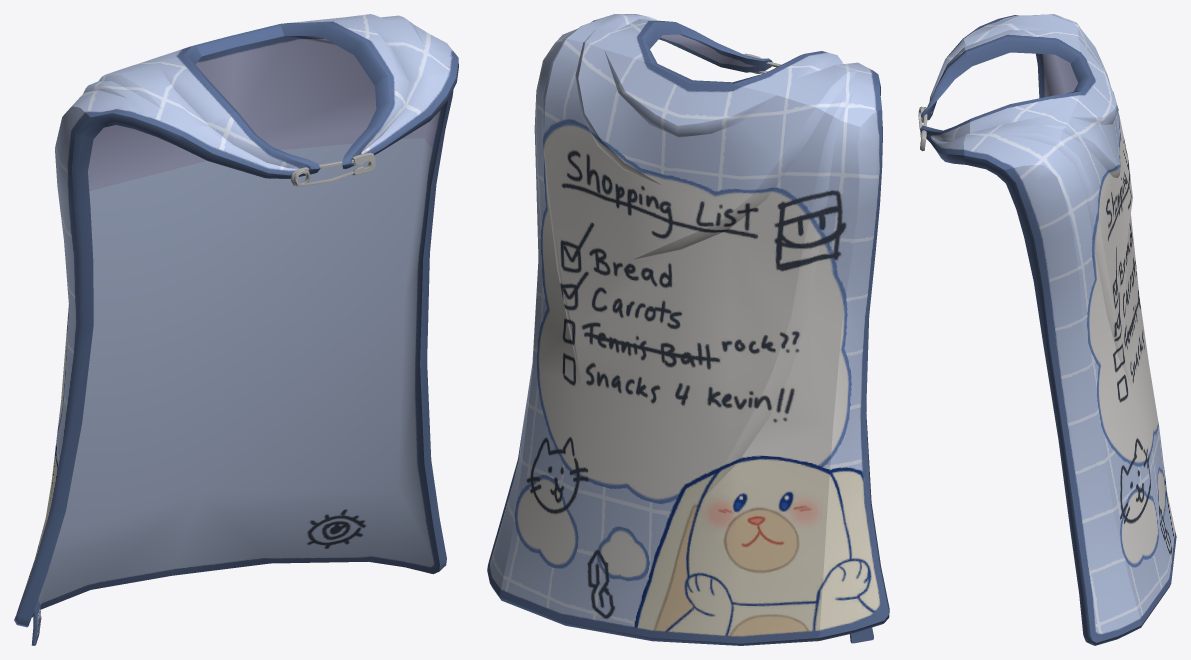
Rendered from sticky note beach towel.glb.
The picture shows the model from 3 angles, left to right: view 1: azimuth 30°, elevation 25°; view 2: azimuth 150°, elevation 25°; view 3: azimuth 270°, elevation 25°; orthographic projection. The views are drawn at different scales.
Visible parts, largest first — view 1: FB_Shoulder_BeachTowelCape_LOD0; view 2: FB_Shoulder_BeachTowelCape_LOD0; view 3: FB_Shoulder_BeachTowelCape_LOD0.
Boxes of the visible parts, x1=… form: FB_Shoulder_BeachTowelCape_LOD0: x1=14, y1=14, x2=458, y2=645; FB_Shoulder_BeachTowelCape_LOD0: x1=487, y1=14, x2=889, y2=645; FB_Shoulder_BeachTowelCape_LOD0: x1=918, y1=14, x2=1176, y2=645.
Size of the model in its own units: 0.4549 by 0.6041 by 0.2849.
Materials: 1 (1 with a texture image).
